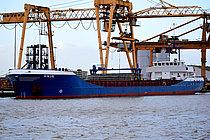Ship: (5, 42, 208, 103)
